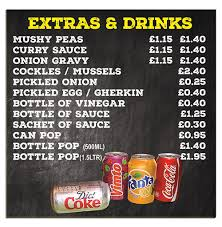coke: (41, 178, 115, 215)
